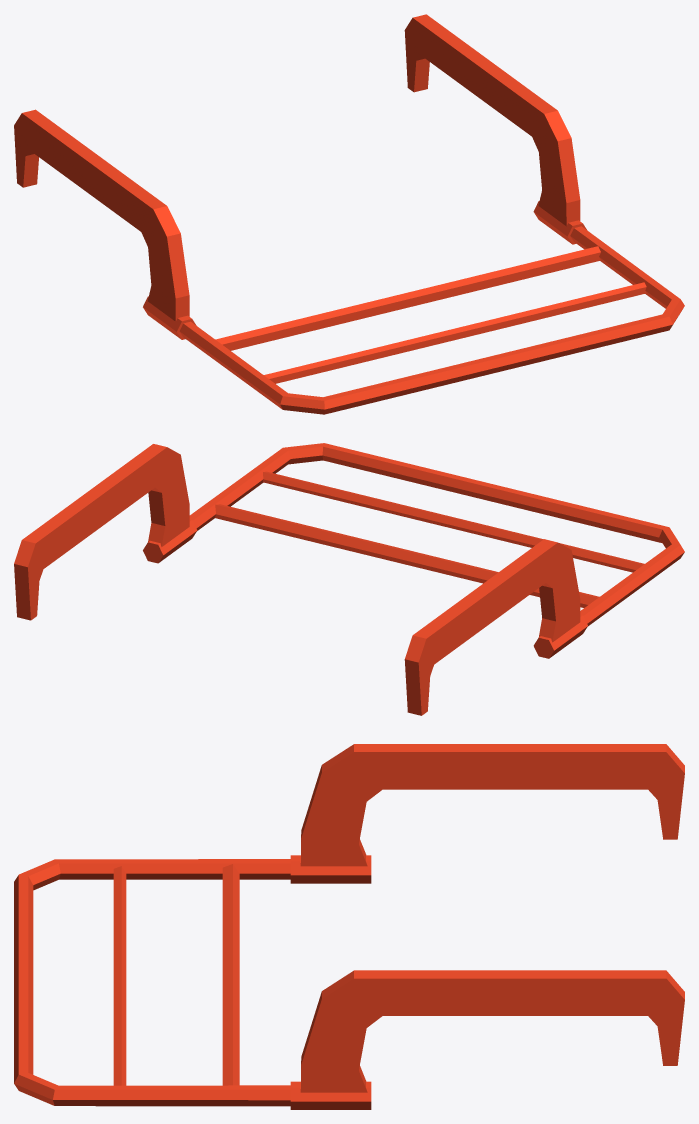
File: SM_Drying_Rack_C_City.fbx
The picture shows the model from 3 angles, top to bottom: view 1: azimuth 30°, elevation 25°; view 2: azimuth 150°, elevation 25°; view 3: azimuth 270°, elevation 25°; orthographic projection. The views are drawn at different scales.
Parts seen in each view (by area): view 1: SM_Drying_Rack_C_City; view 2: SM_Drying_Rack_C_City; view 3: SM_Drying_Rack_C_City.
Boxes of the visible parts, x1,y1,x2,y2 form: SM_Drying_Rack_C_City: (14,14,684,414); SM_Drying_Rack_C_City: (14,443,684,715); SM_Drying_Rack_C_City: (14,744,684,1109).
Bounding box in the file's own units: 0.811 × 0.2101 × 0.9649.
